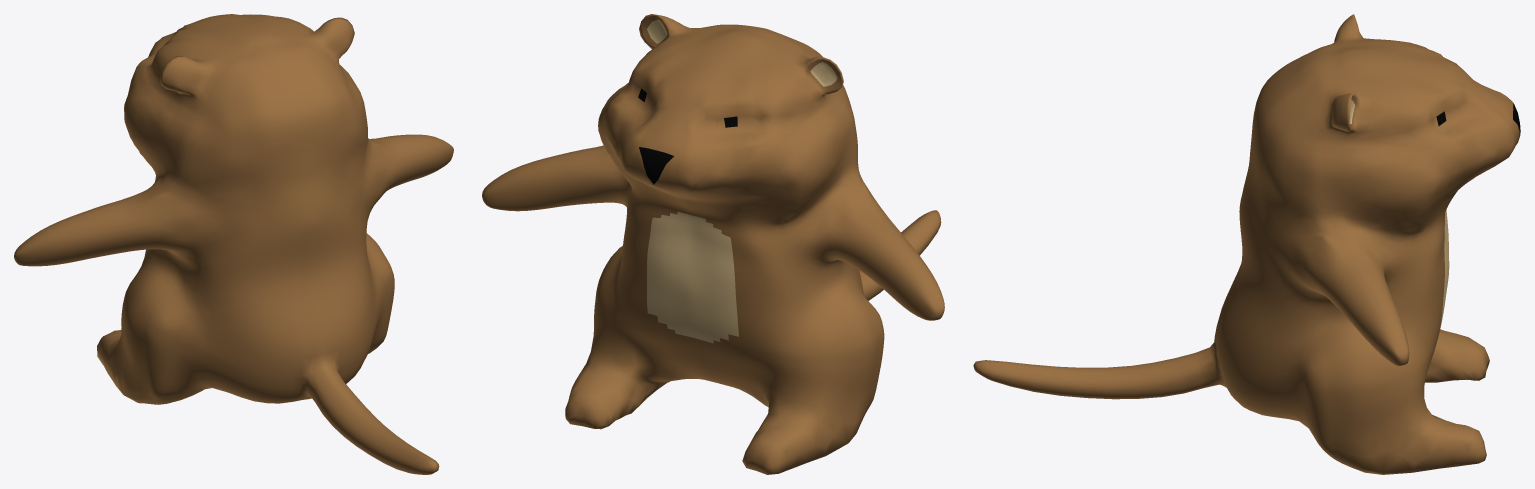
Rendered from ColoredGopher.fbx.
The picture shows the model from 3 angles, left to right: view 1: azimuth 30°, elevation 25°; view 2: azimuth 150°, elevation 25°; view 3: azimuth 270°, elevation 25°; orthographic projection. The views are drawn at different scales.
Visible parts, largest first — view 1: gopher2; view 2: gopher2; view 3: gopher2.
Boxes of the visible parts, x1,y1,x2,y2 form: gopher2: (14,14,453,474); gopher2: (482,14,944,474); gopher2: (973,14,1520,474).
Bounding box in the file's own units: 99.3 × 75.98 × 104.
